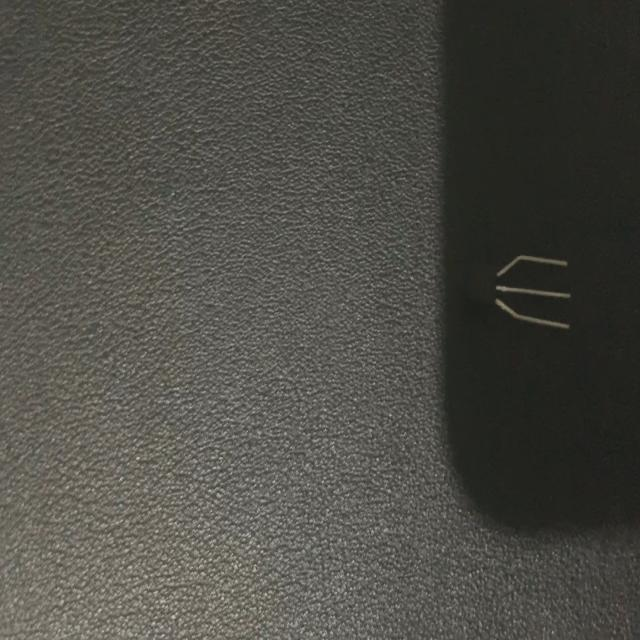BJT: (462, 242, 574, 340)
